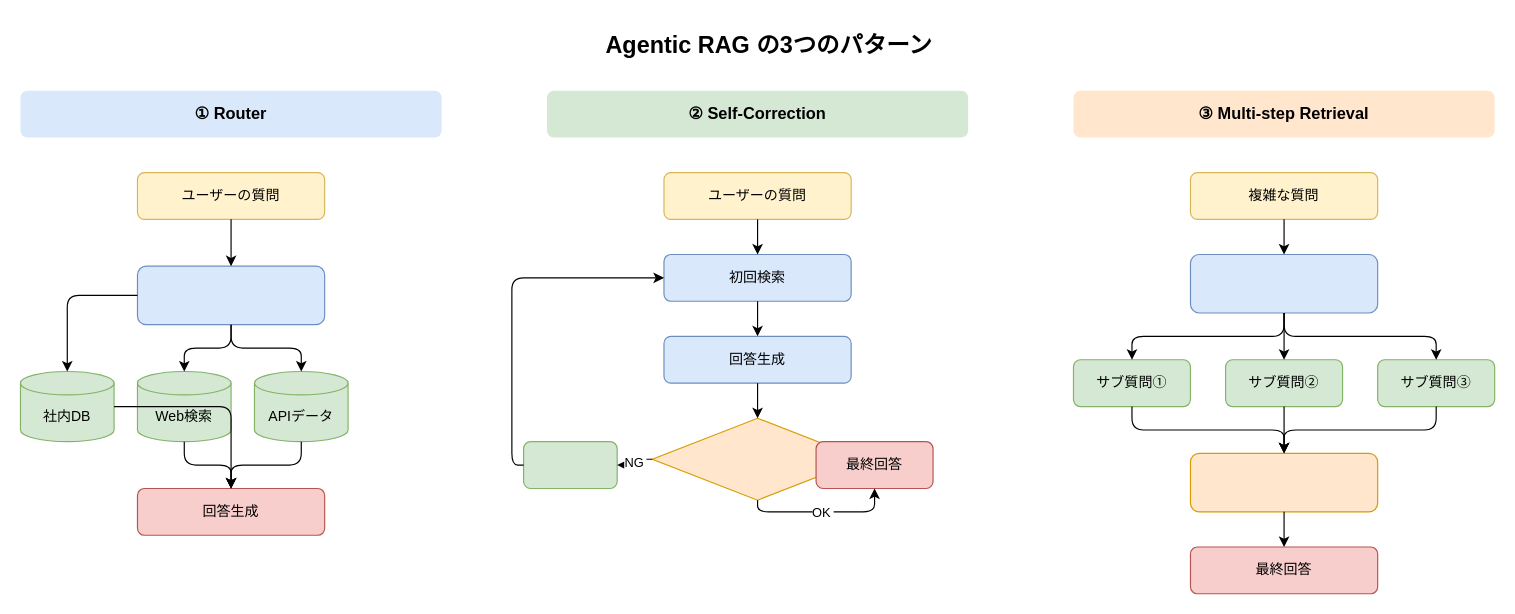
Image size: 1515x614. Some labels were removed from this diagram. The shapes that lost their labels are listed below. From the top down, each one's centre as x and y in pixels, then its label:
At pixel 230 295: "Router Agent\n（質問を分類）".
At pixel 1283 283: "質問の分解\n（Planner）".
At pixel 569 464: "再検索".
At pixel 757 458: "品質評価\n（Evaluator）".
At pixel 1283 482: "結果の統合\n（Synthesizer）".
